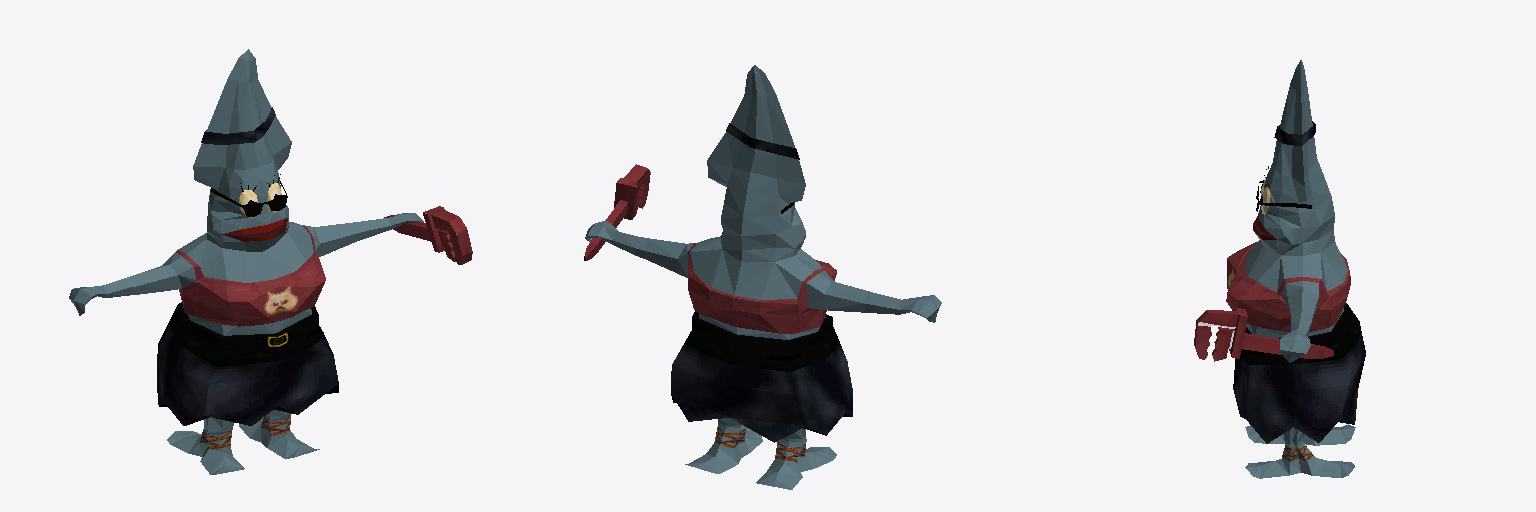
3 renders of one model, left to right at view 1: azimuth 30°, elevation 25°; view 2: azimuth 150°, elevation 25°; view 3: azimuth 270°, elevation 25°, orthographic.
Parts seen in each view (by area): view 1: hotrod_biker_03_m; view 2: hotrod_biker_03_m; view 3: hotrod_biker_03_m.
Part boxes in pixels (left/top/right/bottom): hotrod_biker_03_m: left=69, top=49, right=472, bottom=474; hotrod_biker_03_m: left=584, top=65, right=941, bottom=489; hotrod_biker_03_m: left=1194, top=60, right=1365, bottom=478.
Bounding box in the file's own units: 128 × 138 × 54.27.
Materials: 1 (1 with a texture image).